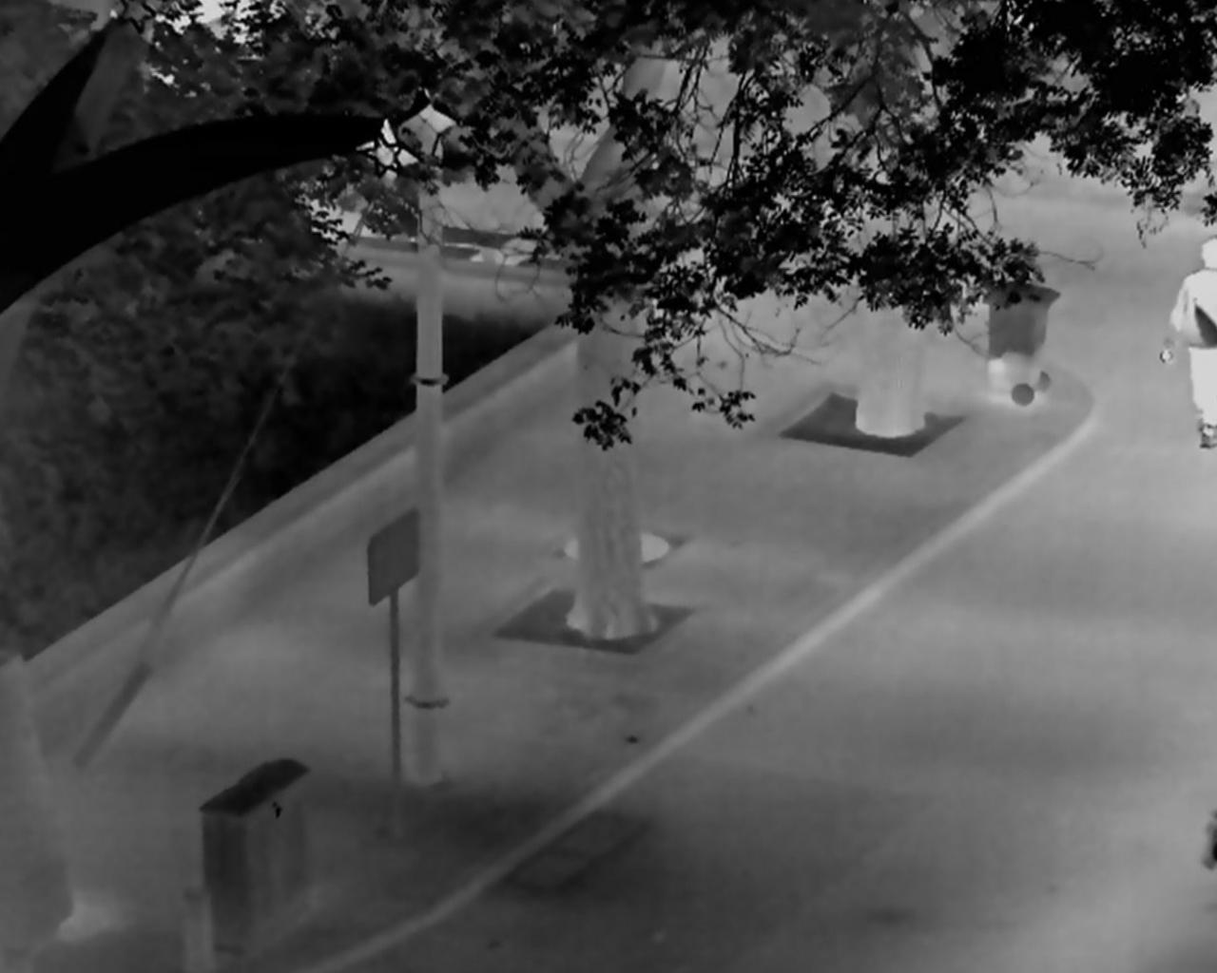person: (1160, 236, 1217, 448)
